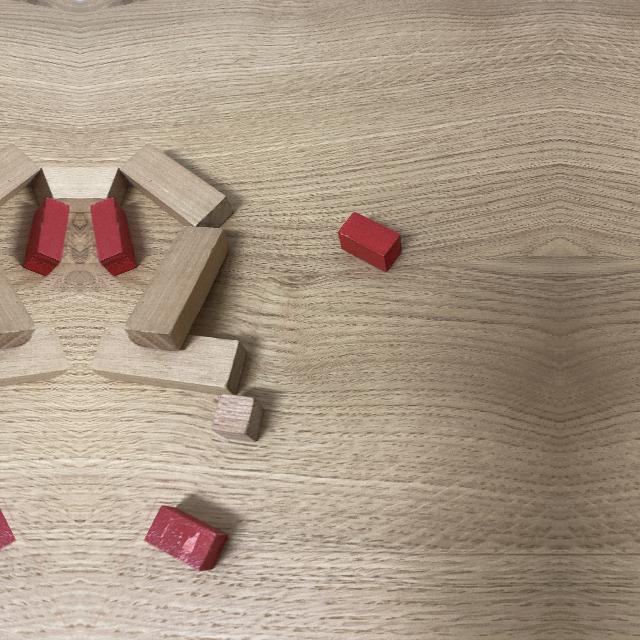cube: (212, 394, 263, 442)
jenga: (125, 226, 229, 351), (91, 327, 246, 395), (120, 147, 234, 228), (0, 327, 69, 387), (0, 264, 35, 350), (80, 165, 129, 217), (31, 165, 80, 217), (0, 147, 40, 207)
red block: (145, 506, 227, 571), (338, 212, 402, 272), (90, 198, 137, 276), (23, 198, 70, 276)
